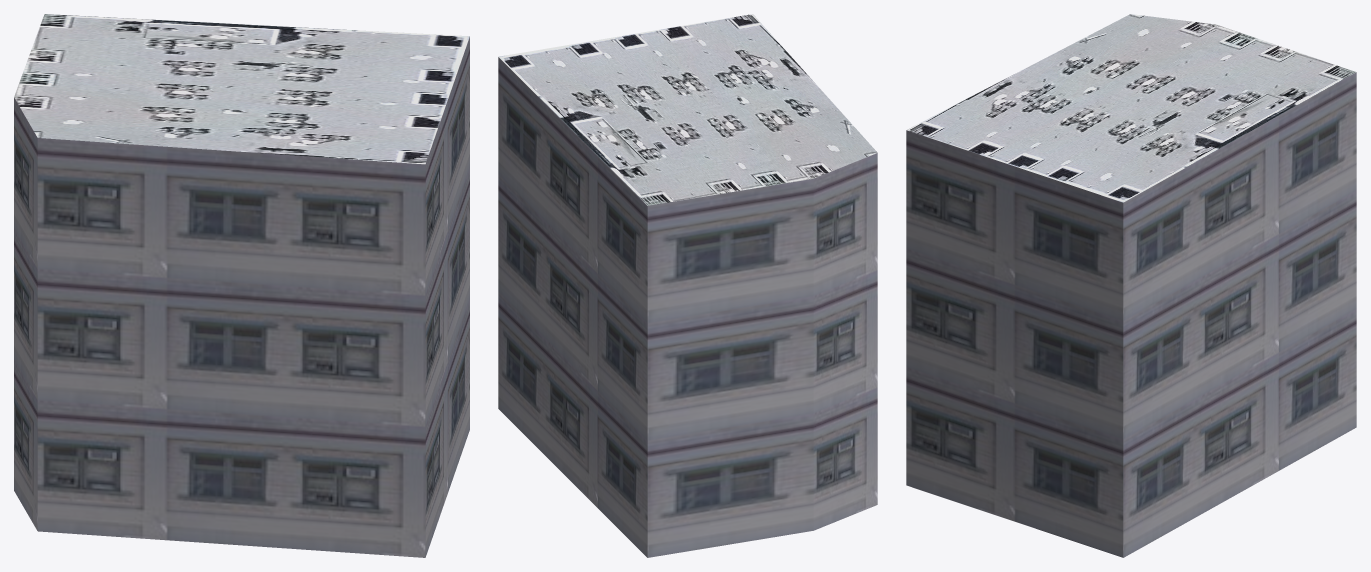
File: ResTex__4444.fbx
3 renders of one model, left to right at view 1: azimuth 30°, elevation 25°; view 2: azimuth 150°, elevation 25°; view 3: azimuth 270°, elevation 25°, orthographic. The views are drawn at different scales.
Parts seen in each view (by area): view 1: CityEngineMaterial_1_m, CityEngineMaterial_2_m; view 2: CityEngineMaterial_1_m, CityEngineMaterial_2_m; view 3: CityEngineMaterial_1_m, CityEngineMaterial_2_m.
Boxes of the visible parts, x1,y1,x2,y2 form: CityEngineMaterial_1_m: (14,37,469,557); CityEngineMaterial_2_m: (14,14,469,164); CityEngineMaterial_1_m: (498,57,877,557); CityEngineMaterial_2_m: (498,14,877,205); CityEngineMaterial_1_m: (906,72,1356,557); CityEngineMaterial_2_m: (906,14,1356,202).
Size of the model in its own units: 10.25 by 9 by 10.34.
Materials: 2 (2 with a texture image).
